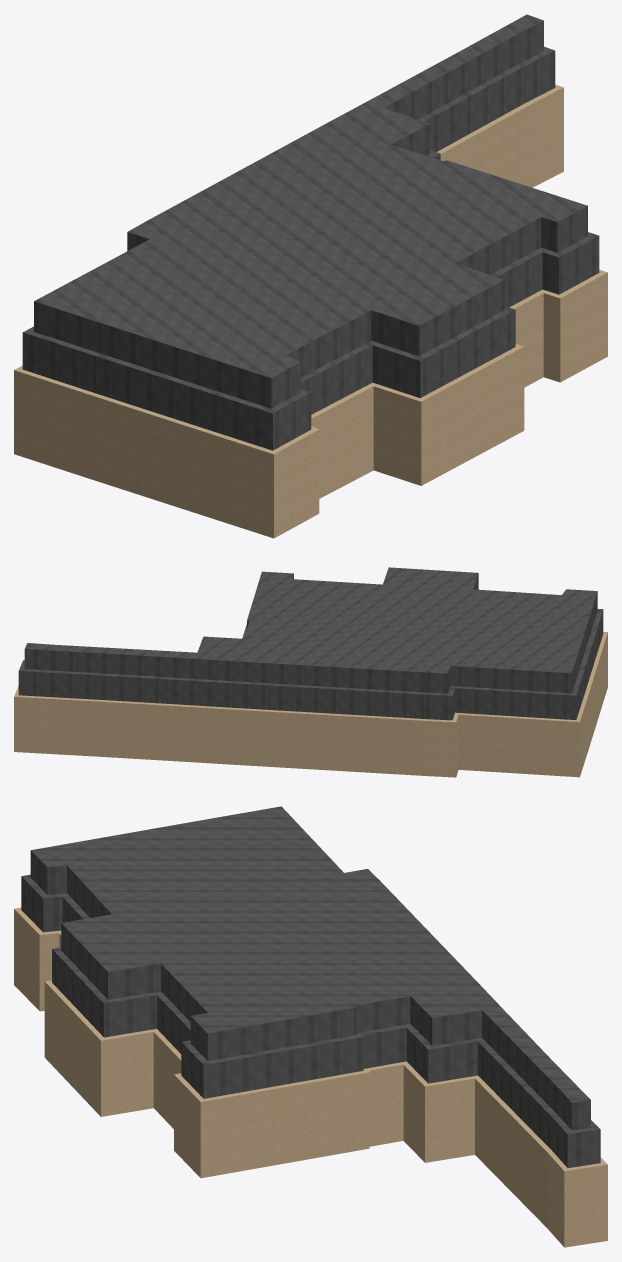
3 renders of one model, top to bottom at view 1: azimuth 30°, elevation 25°; view 2: azimuth 150°, elevation 25°; view 3: azimuth 270°, elevation 25°, orthographic. The views are drawn at different scales.
Parts seen in each view (by area): view 1: lmbase_231220414_roof_b, lmbase_231220414, lmbase_231220414_roof_a; view 2: lmbase_231220414_roof_b, lmbase_231220414, lmbase_231220414_roof_a; view 3: lmbase_231220414_roof_b, lmbase_231220414, lmbase_231220414_roof_a.
Boxes of the visible parts, box(x1,y1,x2,y2) form: lmbase_231220414_roof_b: box(34, 14, 587, 408); lmbase_231220414: box(14, 84, 607, 538); lmbase_231220414_roof_a: box(22, 46, 599, 450); lmbase_231220414_roof_b: box(24, 567, 597, 693); lmbase_231220414: box(14, 632, 607, 777); lmbase_231220414_roof_a: box(18, 609, 603, 720); lmbase_231220414_roof_b: box(30, 806, 590, 1130); lmbase_231220414: box(14, 907, 607, 1247); lmbase_231220414_roof_a: box(21, 874, 600, 1167).
Size of the model in its own units: 71.57 by 14.8 by 57.84.
2 materials, 2 textured.
